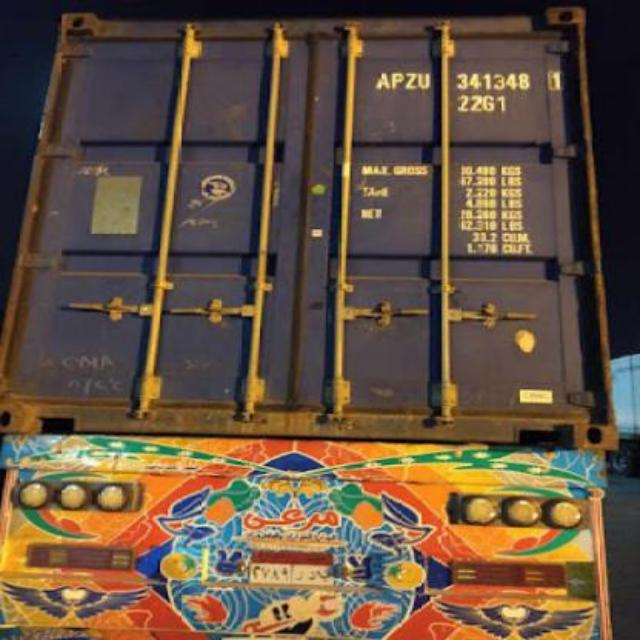1: (482, 70, 492, 90), (550, 72, 560, 88)
3: (454, 70, 470, 90), (492, 74, 506, 90)
4: (506, 70, 518, 90), (470, 72, 482, 90)
8: (518, 70, 530, 90)
A: (374, 68, 390, 90)
P: (391, 70, 404, 92)
U: (418, 72, 430, 92)
Z: (404, 70, 416, 88)
